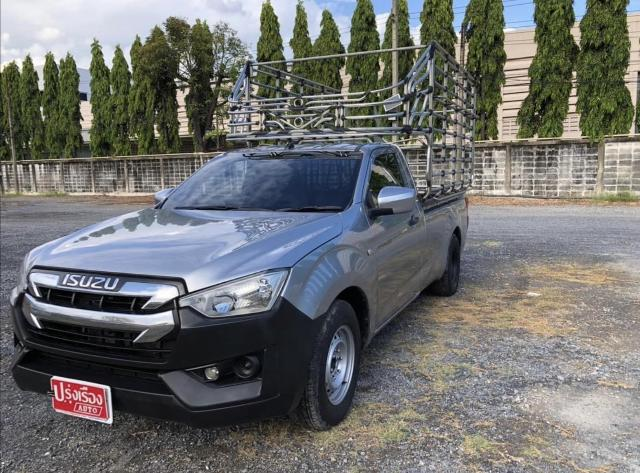pickup-truck: (0, 37, 501, 444)
